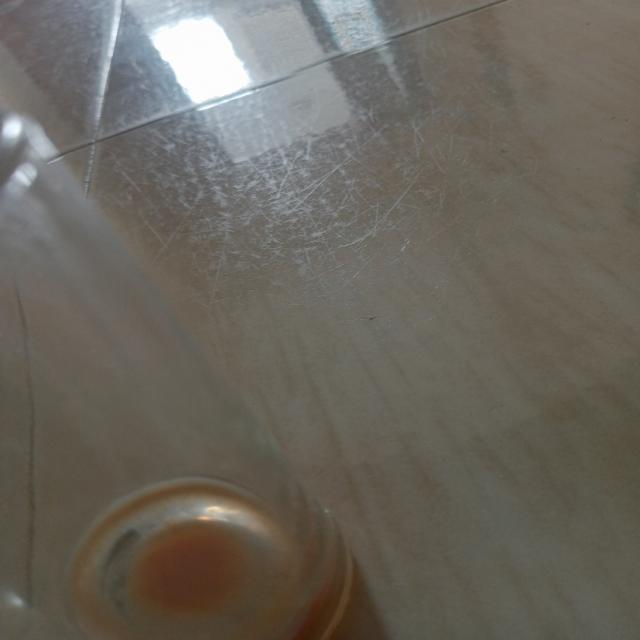glass-VX4N: (0, 115, 385, 640)
